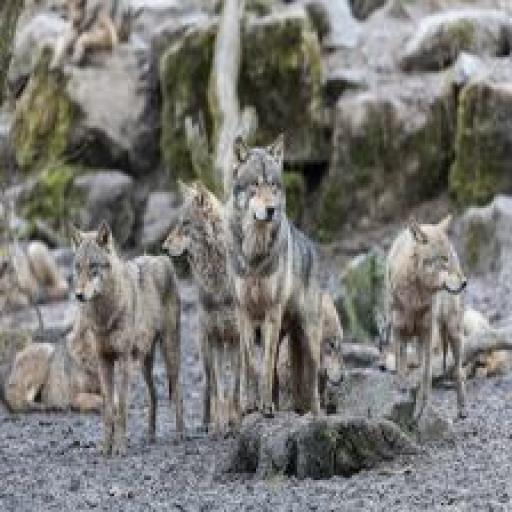wolf: (222, 119, 331, 451), (62, 199, 192, 460), (373, 203, 482, 456), (171, 174, 248, 446)
